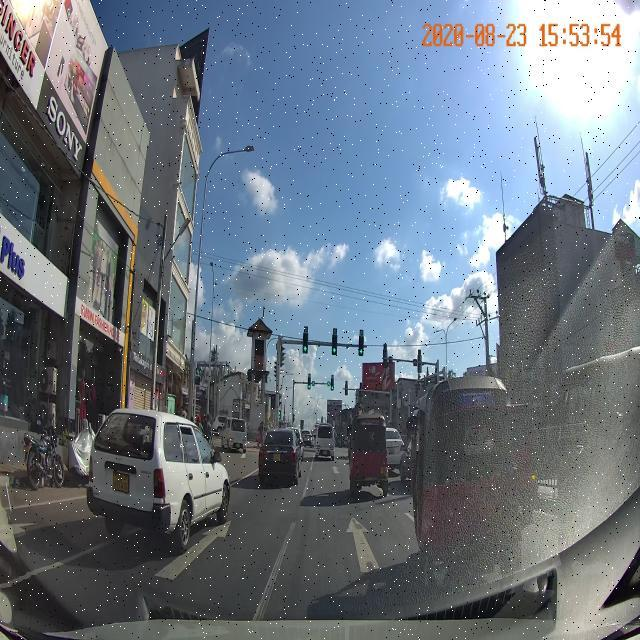forward: (264, 497, 421, 584)
